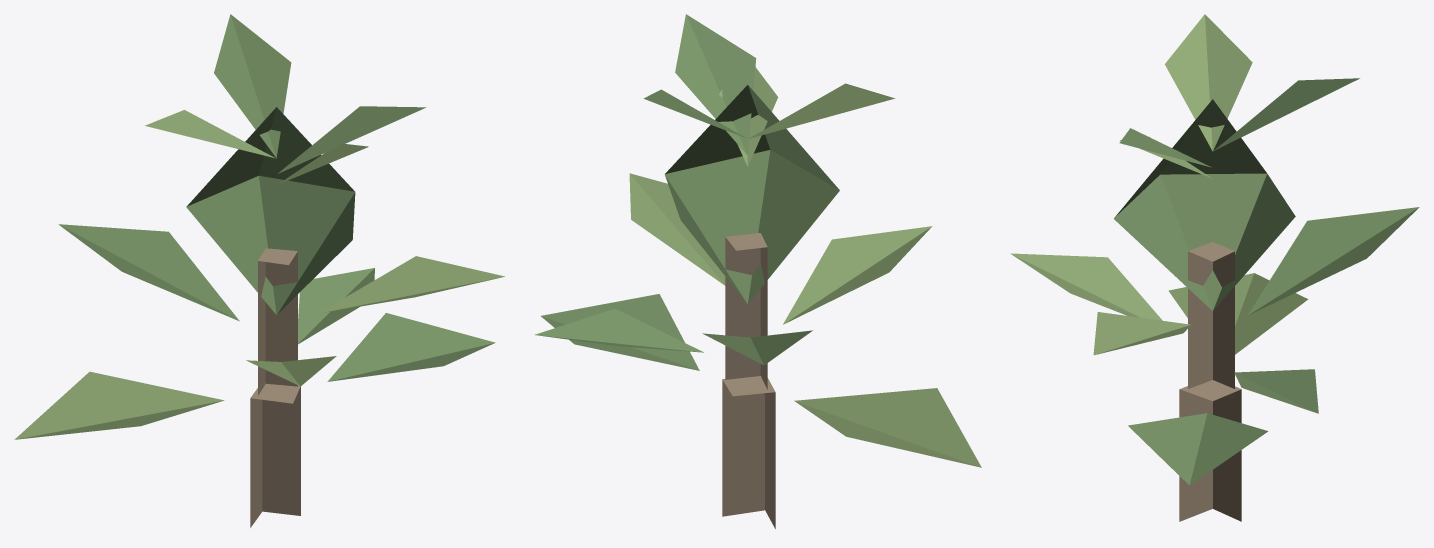
The model's file is shu.paotong@seedling__summer.glb.
3 views of the same model, side by side, from view 1: azimuth 30°, elevation 25°; view 2: azimuth 150°, elevation 25°; view 3: azimuth 270°, elevation 25° (orthographic). The views are drawn at different scales.
Visible parts, largest first — view 1: shu.paotong@seedling__summer; view 2: shu.paotong@seedling__summer; view 3: shu.paotong@seedling__summer.
Part boxes in pixels (box(x1,y1,x2,y2)): shu.paotong@seedling__summer: box(14, 14, 504, 527); shu.paotong@seedling__summer: box(534, 14, 981, 528); shu.paotong@seedling__summer: box(1010, 14, 1419, 521).
Bounding box in the file's own units: 1.69 × 1.61 × 1.31.
